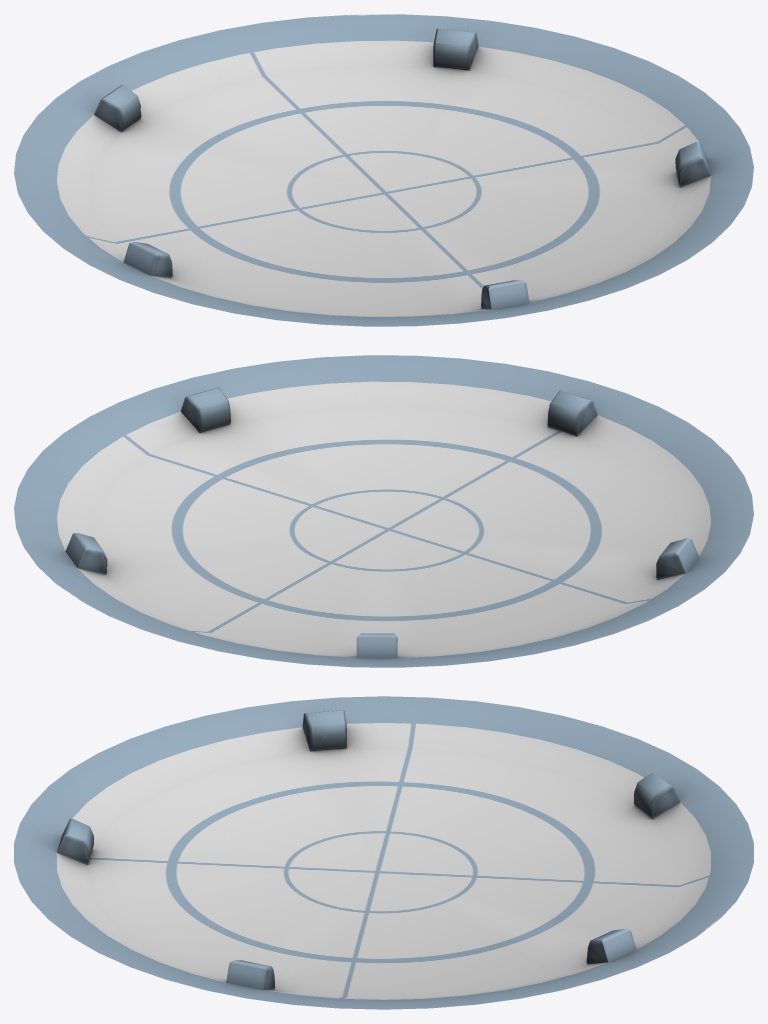
The model's file is Stage03.glb.
3 renders of one model, top to bottom at view 1: azimuth 30°, elevation 25°; view 2: azimuth 150°, elevation 25°; view 3: azimuth 270°, elevation 25°, orthographic.
Parts seen in each view (by area): view 1: Stage03; view 2: Stage03; view 3: Stage03.
Boxes of the visible parts, x1,y1,x2,y2 form: Stage03: (14, 14, 753, 326); Stage03: (14, 355, 753, 667); Stage03: (14, 696, 753, 1009).
Size of the model in its own units: 130 by 5.81 by 130.
1 material, 1 textured.
